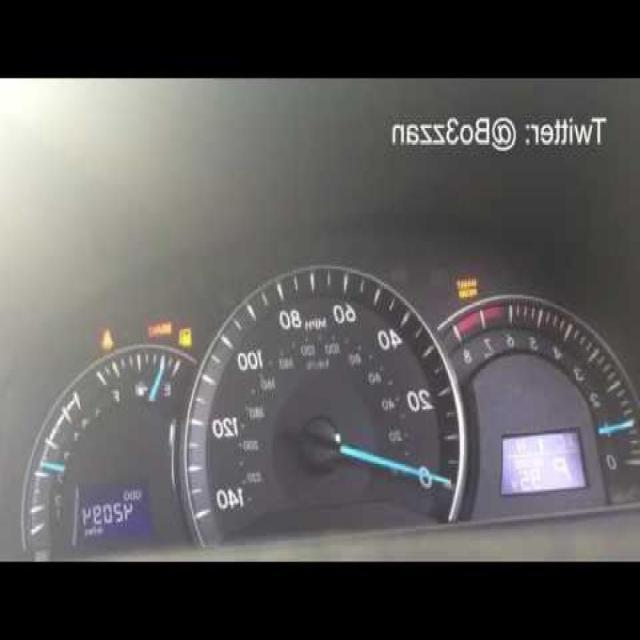Seat Belt: (100, 330, 114, 350)
